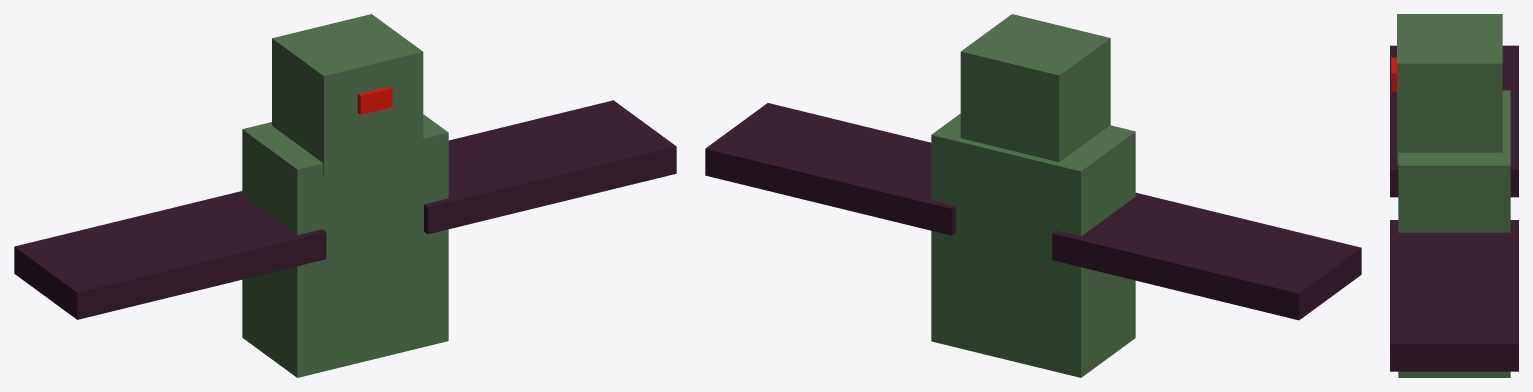
File: ghoul.dae
3 views of the same model, side by side, from view 1: azimuth 30°, elevation 25°; view 2: azimuth 150°, elevation 25°; view 3: azimuth 270°, elevation 25° (orthographic). The views are drawn at different scales.
Visible parts, largest first — view 1: ghoul; view 2: ghoul; view 3: ghoul.
Boxes of the visible parts, x1,y1,x2,y2 form: ghoul: (14,14,676,377); ghoul: (705,14,1361,377); ghoul: (1390,14,1518,377).
Bounding box in the file's own units: 3.01 × 1.42 × 0.55.
